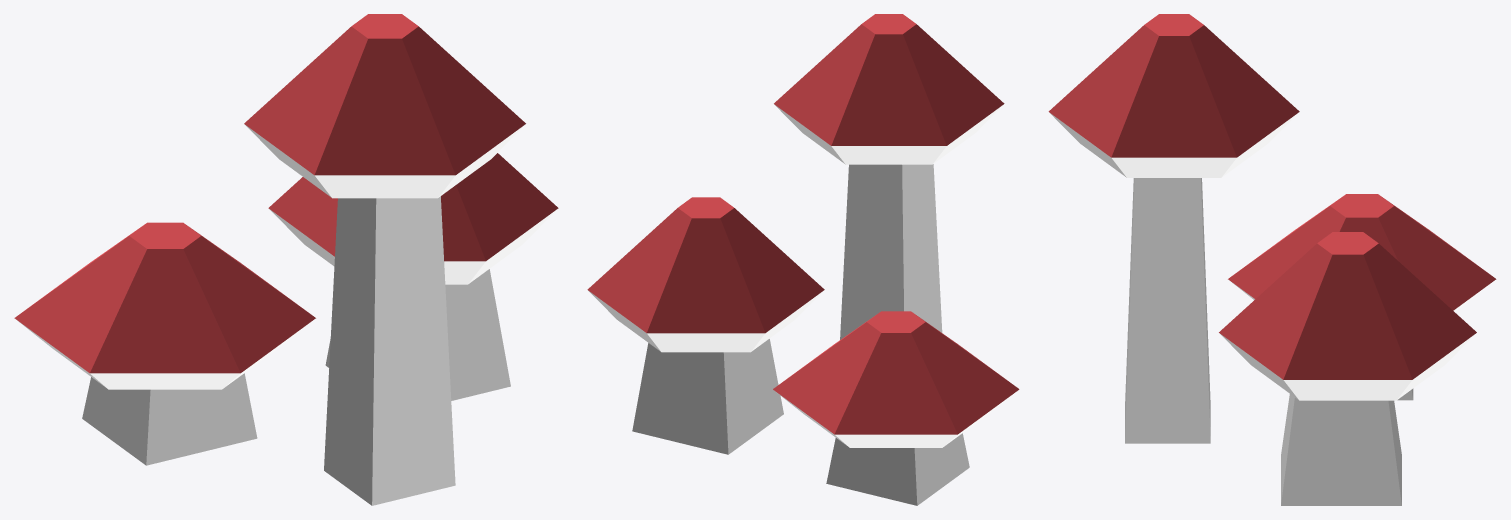
The model's file is mushroom_redGroup.obj.
3 views of the same model, side by side, from view 1: azimuth 30°, elevation 25°; view 2: azimuth 150°, elevation 25°; view 3: azimuth 270°, elevation 25° (orthographic). The views are drawn at different scales.
Visible parts, largest first — view 1: mushroom_redGroup; view 2: mushroom_redGroup; view 3: mushroom_redGroup.
Boxes of the visible parts, x1=… form: mushroom_redGroup: x1=14, y1=14, x2=558, y2=505; mushroom_redGroup: x1=587, y1=14, x2=1019, y2=505; mushroom_redGroup: x1=1048, y1=14, x2=1496, y2=505.
Bounding box in the file's own units: 2.7 × 2.5 × 2.54.
